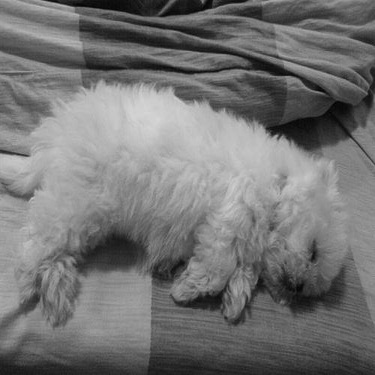dog: (2, 69, 357, 335)
